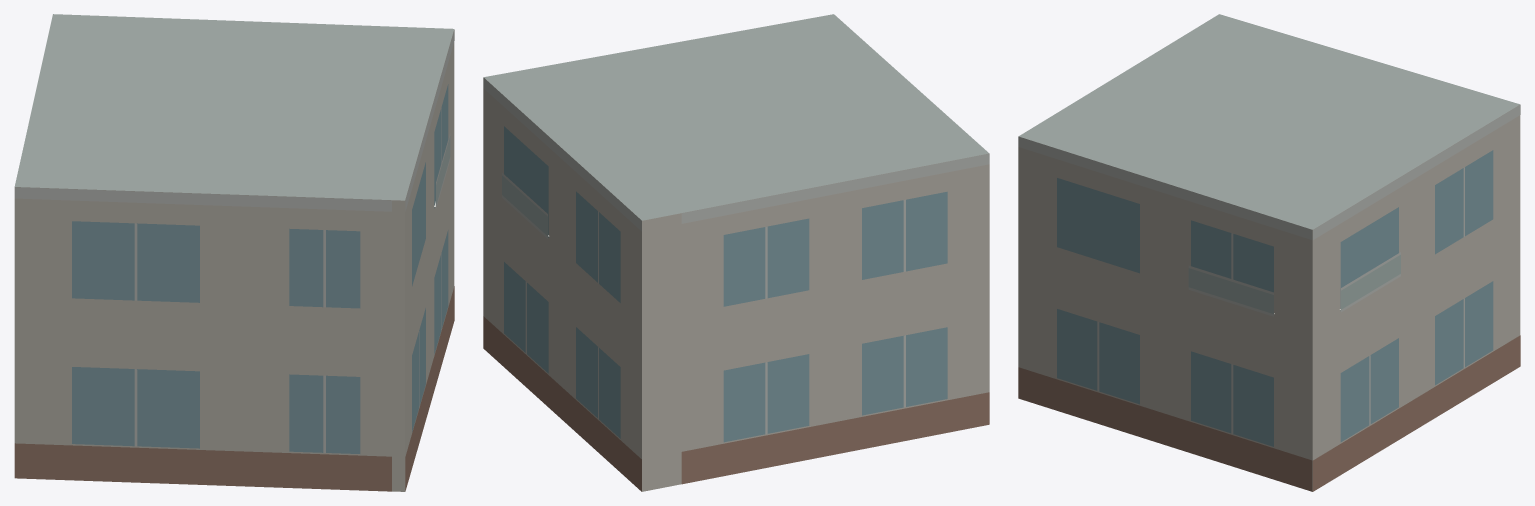
The model's file is survey-upis-32564179.glb.
The picture shows the model from 3 angles, left to right: view 1: azimuth 30°, elevation 25°; view 2: azimuth 150°, elevation 25°; view 3: azimuth 270°, elevation 25°; orthographic projection. The views are drawn at different scales.
Visible parts, largest first — view 1: survey-upis-32564179.tmp; view 2: survey-upis-32564179.tmp; view 3: survey-upis-32564179.tmp.
Boxes of the visible parts, left/top/right/bottom form: survey-upis-32564179.tmp: left=14, top=14, right=454, bottom=491; survey-upis-32564179.tmp: left=483, top=14, right=989, bottom=491; survey-upis-32564179.tmp: left=1018, top=14, right=1520, bottom=491.
Size of the model in its own units: 10.79 by 6.1 by 10.6.
